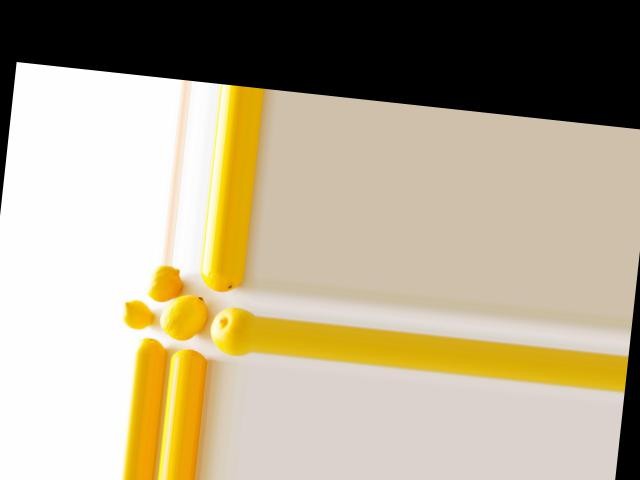lemon: (192, 267, 237, 297)
